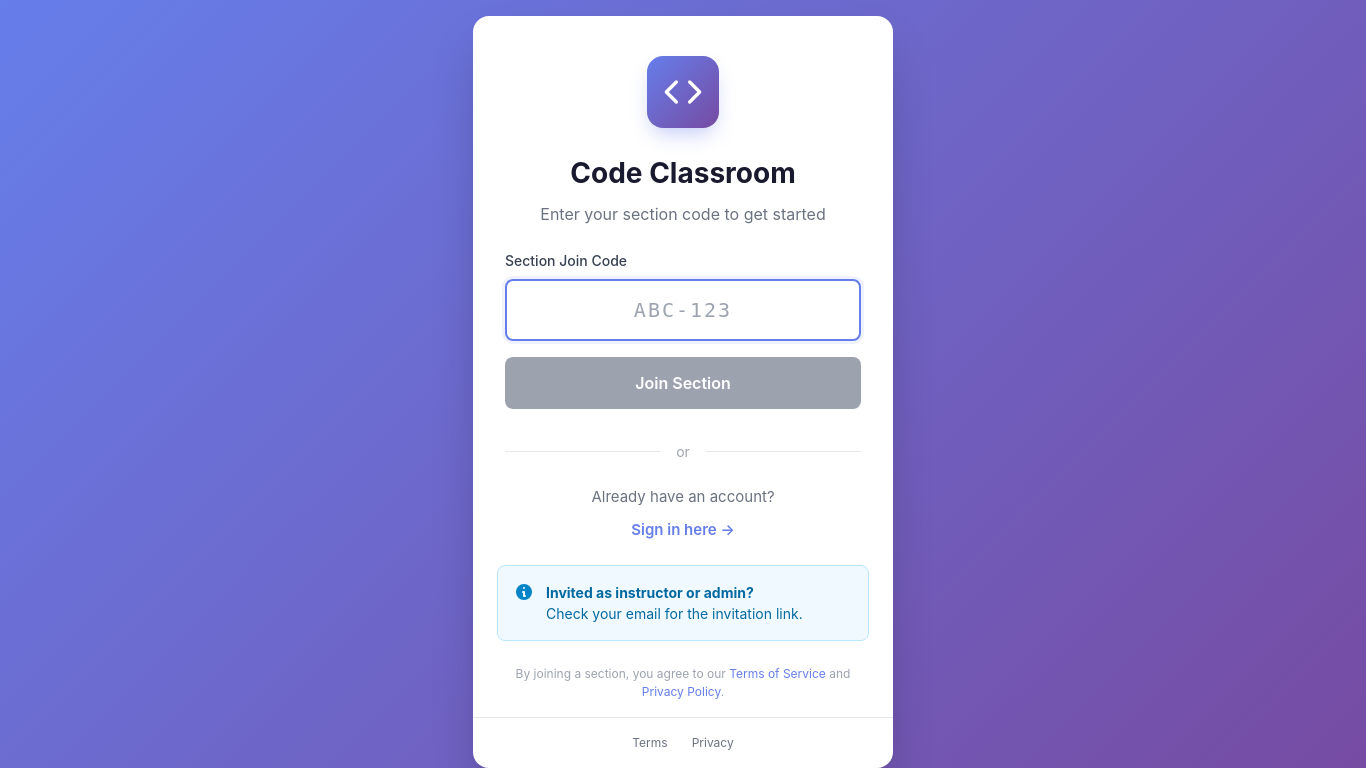
Test case: Landing Page › Form Submission › shows loading state after submission
In the field with placeholder "ABC-123": {"x": 683, "y": 310} 505,279 -> 861,341, type "ABC123"
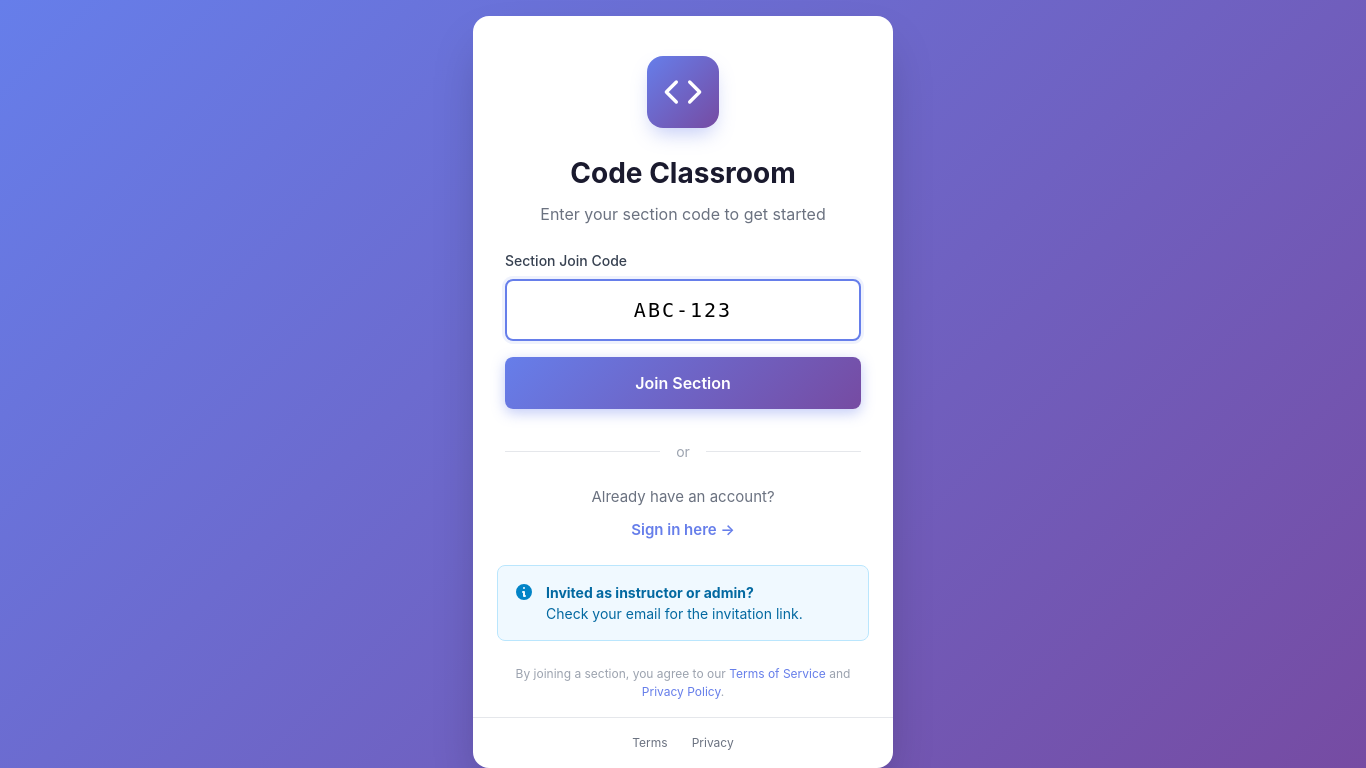
Click the button "Join Section": {"x": 683, "y": 383} 505,357 -> 861,409
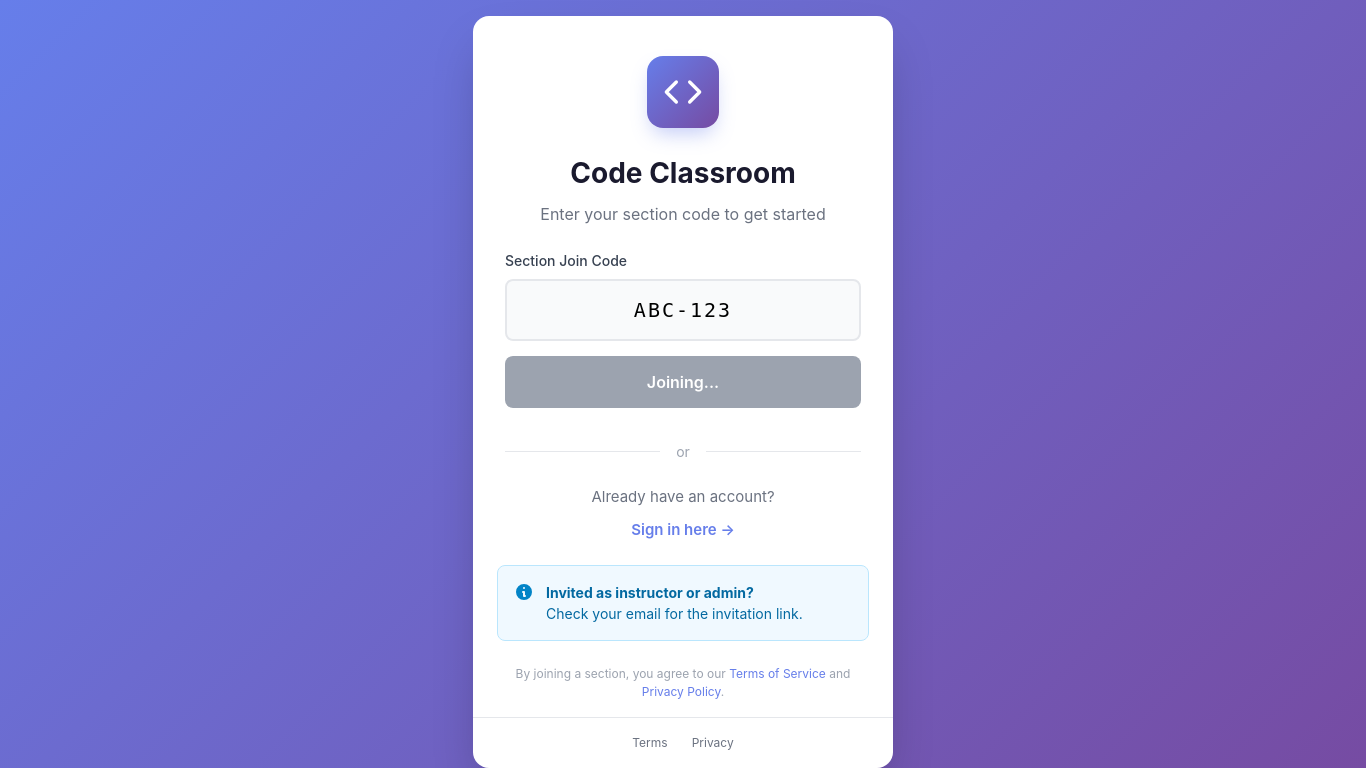
Expected: the button "Joining..." is shown, 505,356 -> 861,408
